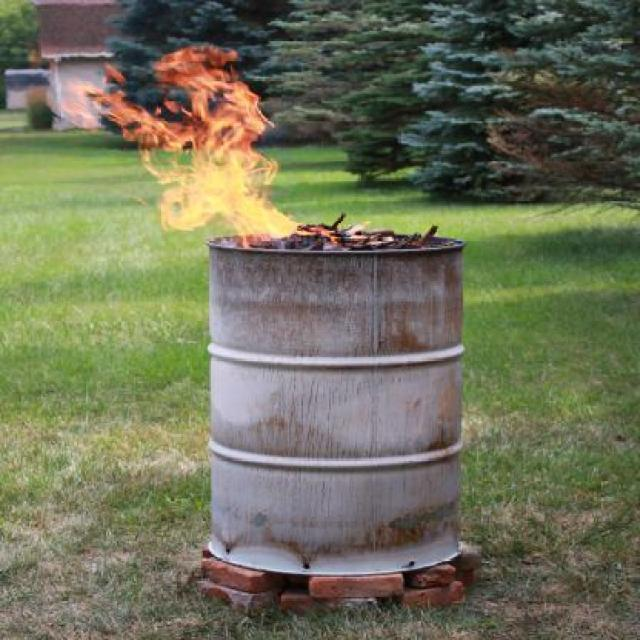fire: (149, 45, 283, 239)
